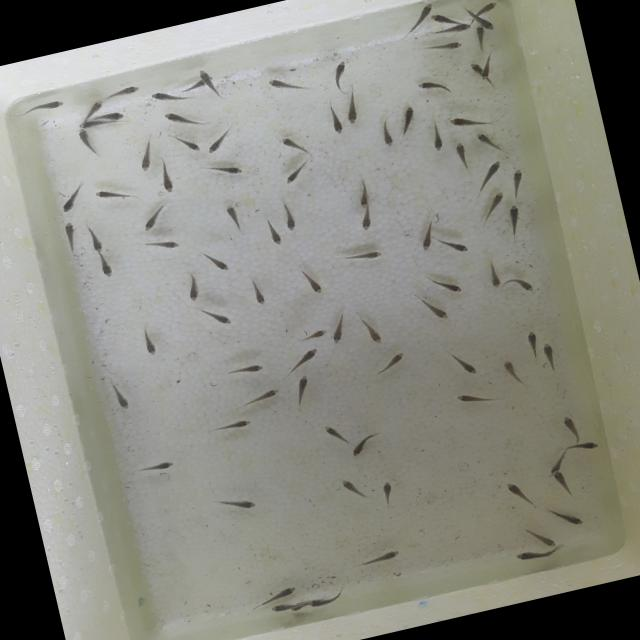fingerling: (436, 339, 482, 380), (250, 582, 306, 610), (234, 381, 286, 411), (409, 290, 452, 326), (412, 72, 459, 101), (196, 300, 238, 332), (542, 502, 584, 534), (442, 108, 492, 134), (356, 313, 389, 352), (472, 156, 512, 188), (217, 490, 262, 518), (356, 544, 401, 572), (550, 409, 588, 442), (206, 414, 256, 439), (372, 346, 412, 377), (161, 104, 205, 132), (220, 358, 270, 382), (292, 268, 326, 303), (135, 454, 182, 479), (411, 218, 445, 252), (18, 98, 72, 119), (438, 267, 472, 300), (476, 188, 507, 224), (199, 248, 236, 278), (146, 85, 190, 110), (504, 476, 540, 506), (318, 98, 346, 136), (317, 415, 350, 447), (108, 378, 134, 418), (284, 344, 321, 372), (525, 524, 562, 552), (334, 472, 366, 504), (324, 312, 355, 345), (470, 125, 504, 155), (449, 387, 494, 409), (134, 138, 160, 176), (262, 72, 301, 97), (512, 543, 556, 565), (502, 200, 528, 237), (218, 199, 247, 232), (279, 158, 314, 185), (336, 88, 359, 129), (208, 157, 248, 180), (326, 58, 353, 92), (536, 339, 560, 377), (81, 219, 107, 254), (138, 201, 168, 231), (52, 188, 84, 216), (498, 356, 525, 388), (173, 129, 203, 157), (558, 437, 600, 457), (248, 282, 273, 315), (428, 36, 469, 56), (58, 217, 82, 251), (440, 234, 474, 258), (260, 216, 285, 248), (424, 124, 448, 157), (276, 200, 300, 233), (292, 372, 314, 408), (346, 434, 374, 462), (202, 128, 232, 154), (396, 103, 422, 133), (140, 328, 162, 363), (522, 326, 544, 361), (294, 326, 332, 346), (104, 82, 140, 103), (506, 272, 534, 299), (470, 11, 499, 37), (275, 130, 304, 156), (149, 233, 184, 254), (157, 160, 179, 193), (376, 115, 396, 151), (506, 167, 532, 194), (90, 184, 124, 204), (374, 479, 400, 505), (549, 466, 574, 493), (76, 126, 100, 154), (182, 272, 204, 302), (348, 244, 381, 264), (482, 262, 504, 292), (428, 22, 469, 38), (196, 66, 217, 97), (96, 253, 120, 280), (426, 8, 458, 28), (70, 116, 108, 132), (355, 176, 374, 208), (476, 52, 496, 82), (266, 598, 296, 618), (459, 56, 486, 77), (454, 140, 471, 173), (88, 110, 125, 124), (310, 592, 340, 609), (412, 1, 434, 24), (545, 453, 568, 474), (358, 210, 376, 235), (178, 79, 205, 95), (471, 25, 488, 50), (80, 99, 102, 118), (474, 0, 500, 16)
